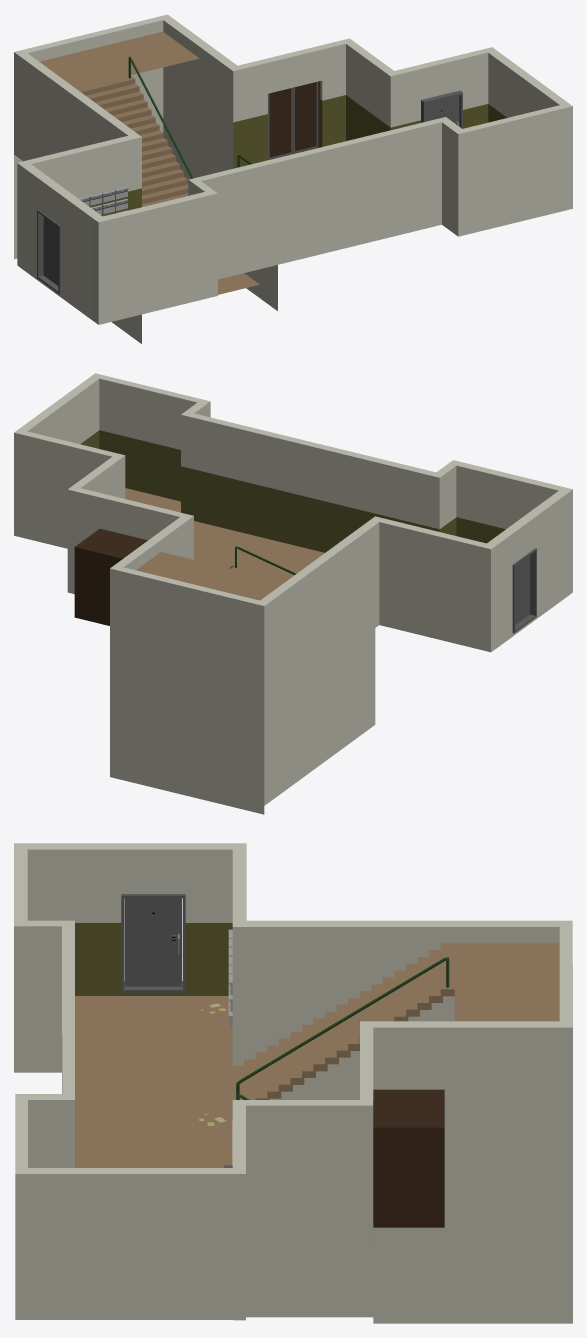
File: SOvetkaPodezd_PT2_exp1.fbx
3 renders of one model, top to bottom at view 1: azimuth 30°, elevation 25°; view 2: azimuth 150°, elevation 25°; view 3: azimuth 270°, elevation 25°, orthographic. The views are drawn at different scales.
Parts seen in each view (by area): view 1: Plane.001, Cube, Plane.014, Lift_doors.001, Lift_doors, Cube.017, Proem_dver, Cube.012, Cube.018, Plane.013, Proem_dver.001, NurbsPath.002; view 2: Plane.001, liFT, Plane.014, Proem_dver, Cube.017; view 3: Plane.001, Cube, liFT, Plane.014, Cube.017, Proem_dver, NurbsPath.002.
Boxes of the visible parts, box(x1,y1,x2,y2) form: Plane.001: box(14, 14, 572, 343); Cube: box(76, 76, 188, 206); Plane.014: box(39, 31, 199, 88); Lift_doors.001: box(293, 81, 318, 153); Lift_doors: box(268, 87, 292, 159); Cube.017: box(43, 217, 58, 285); Proem_dver: box(37, 209, 60, 294); Cube.012: box(79, 187, 128, 216); Cube.018: box(425, 95, 459, 126); Plane.013: box(218, 273, 259, 294); Proem_dver.001: box(421, 90, 462, 128); NurbsPath.002: box(128, 56, 193, 178); Plane.001: box(14, 373, 572, 814); liFT: box(74, 528, 147, 625); Plane.014: box(136, 552, 284, 600); Proem_dver: box(512, 548, 536, 633); Cube.017: box(515, 555, 529, 624); Plane.001: box(14, 843, 572, 1323); Cube: box(232, 943, 454, 1099); liFT: box(373, 1089, 444, 1227); Plane.014: box(454, 943, 559, 1021); Cube.017: box(124, 898, 181, 986); Proem_dver: box(121, 894, 185, 992); NurbsPath.002: box(236, 957, 449, 1095).
Bounding box in the file's own units: 11139 × 4850 × 7934.
